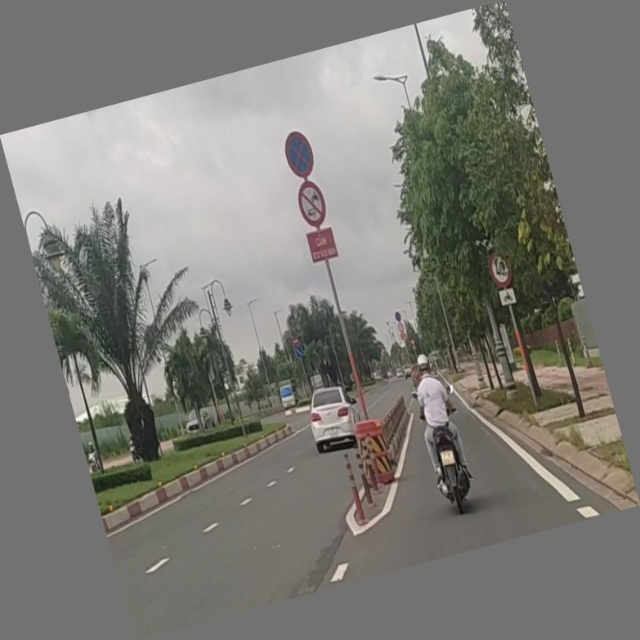P.111: (293, 176, 331, 228)
P.127*40: (486, 249, 516, 291)
P.130: (279, 123, 319, 183)
S.505a*Xe may: (497, 284, 518, 310)
